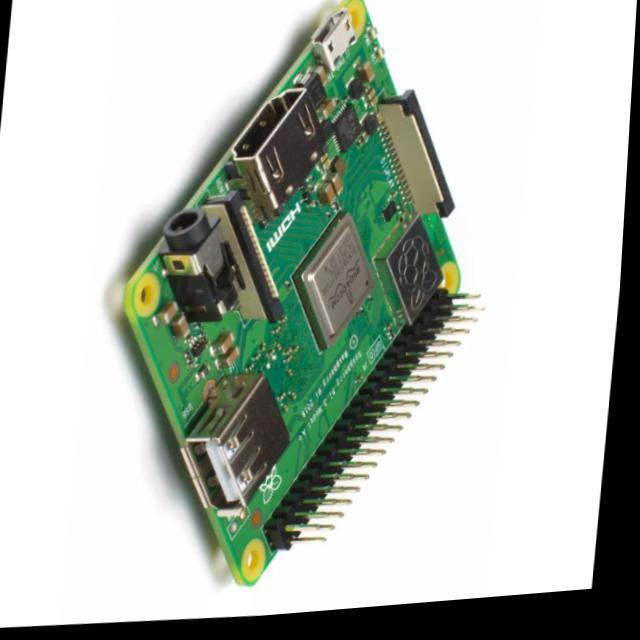Raspberry-Pi-3-A-: (125, 1, 482, 586)
